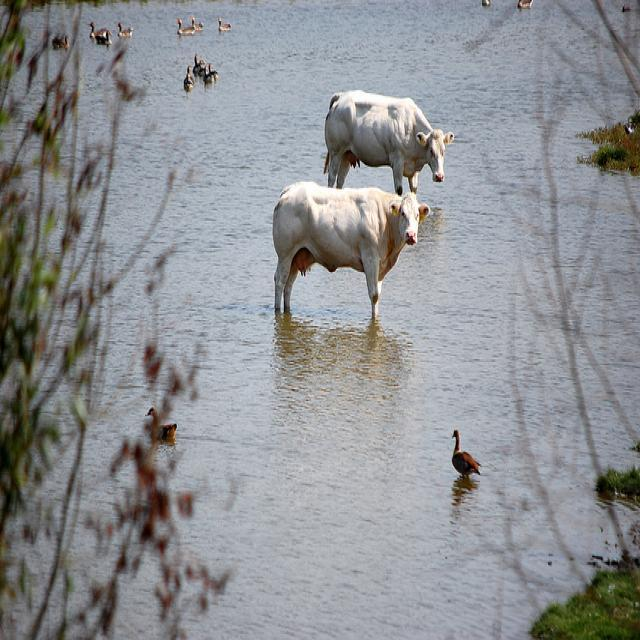cow: (272, 179, 429, 329), (323, 87, 453, 194)
